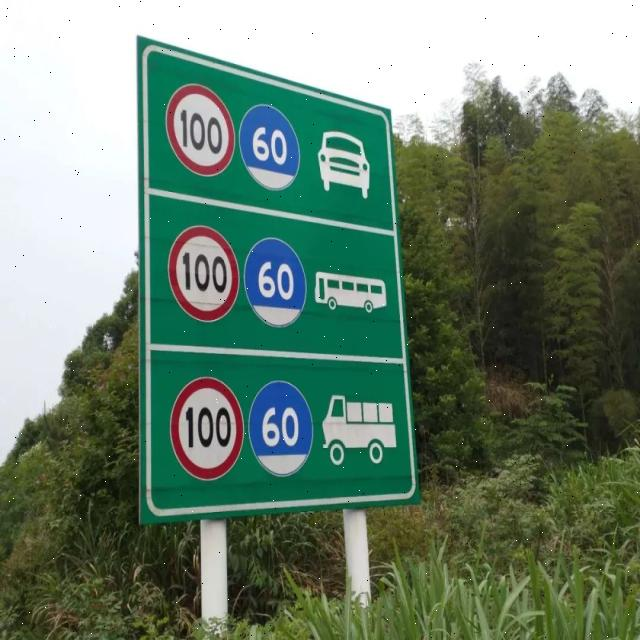speed limit 100: (170, 376, 245, 480), (168, 222, 240, 321), (165, 84, 236, 178)
speed limit 60: (248, 379, 315, 476), (242, 237, 307, 326), (239, 103, 302, 191)
